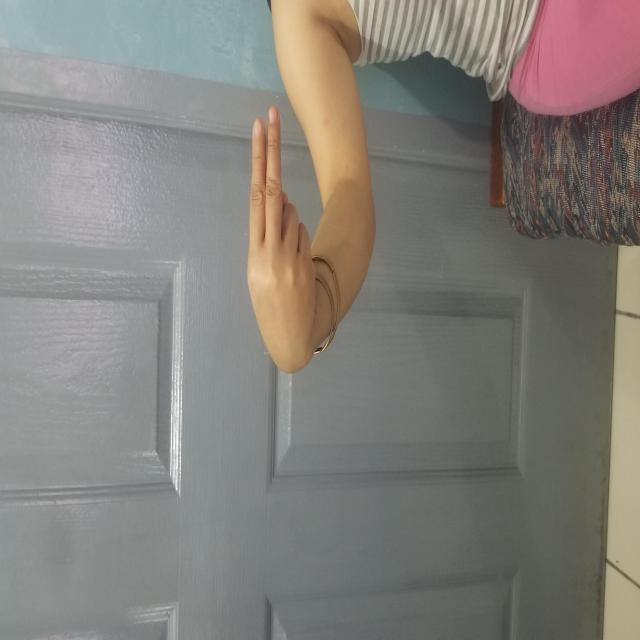H: (260, 245, 538, 317)
